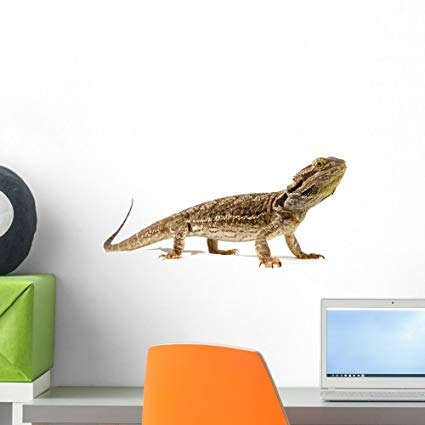bearded: (102, 155, 349, 271)
